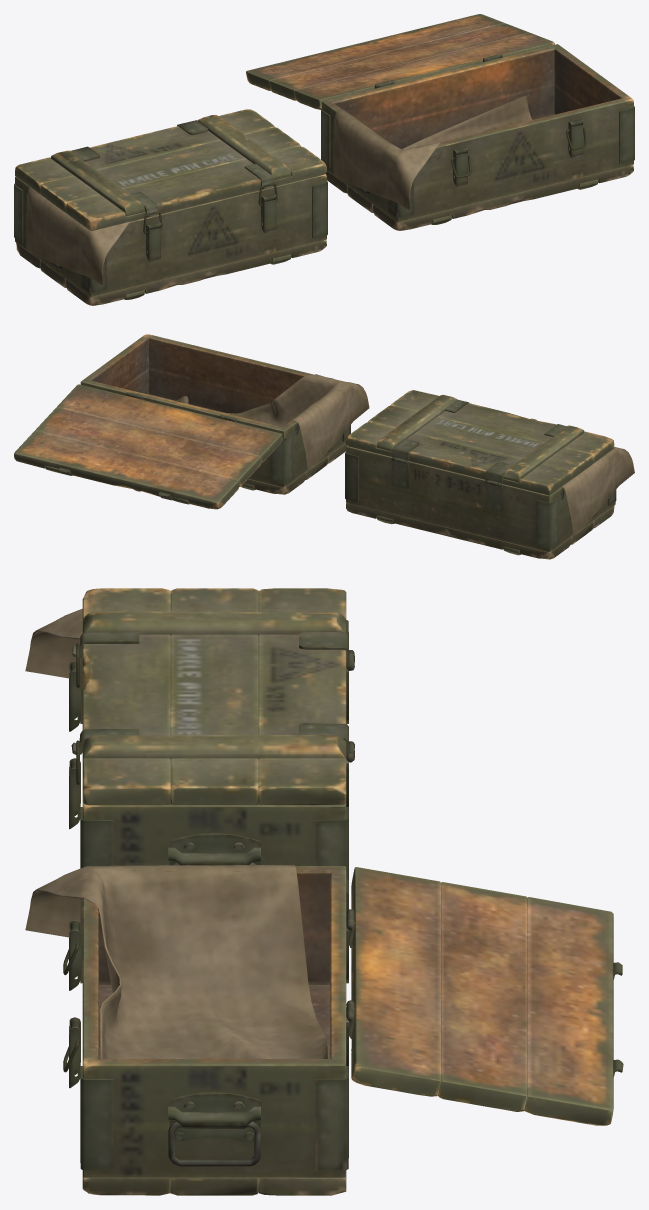
Rendered from old_military_crate.9932290a48.glb.
The picture shows the model from 3 angles, top to bottom: view 1: azimuth 30°, elevation 25°; view 2: azimuth 150°, elevation 25°; view 3: azimuth 270°, elevation 25°; orthographic projection. The views are drawn at different scales.
Visible parts, largest first — view 1: old_military_crate_b, old_military_crate_lid_a, old_military_crate_a, old_military_crate_lid_b, old_military_crate_cloth_b, old_military_crate_cloth_a, old_military_crate_latch_a, old_military_crate_latch_b; view 2: old_military_crate_lid_b, old_military_crate_lid_a, old_military_crate_a, old_military_crate_b, old_military_crate_cloth_b, old_military_crate_cloth_a; view 3: old_military_crate_lid_a, old_military_crate_lid_b, old_military_crate_b, old_military_crate_cloth_b, old_military_crate_a, old_military_crate_cloth_a, old_military_crate_latch_b, old_military_crate_latch_a.
Part boxes in pixels (box(x1,y1,x2,y2)): old_military_crate_b: box(321, 44, 634, 230); old_military_crate_lid_a: box(15, 109, 326, 230); old_military_crate_a: box(14, 174, 327, 305); old_military_crate_lid_b: box(246, 14, 554, 109); old_military_crate_cloth_b: box(333, 95, 532, 209); old_military_crate_cloth_a: box(26, 187, 129, 284); old_military_crate_latch_a: box(146, 194, 276, 261); old_military_crate_latch_b: box(453, 119, 583, 186); old_military_crate_lid_b: box(14, 384, 282, 509); old_military_crate_lid_a: box(346, 390, 614, 495); old_military_crate_a: box(345, 446, 616, 559); old_military_crate_b: box(80, 334, 350, 494); old_military_crate_cloth_b: box(174, 374, 369, 470); old_military_crate_cloth_a: box(562, 447, 634, 535); old_military_crate_lid_a: box(71, 588, 354, 805); old_military_crate_lid_b: box(346, 867, 623, 1125); old_military_crate_b: box(80, 866, 354, 1195); old_military_crate_cloth_b: box(25, 865, 328, 1058); old_military_crate_a: box(80, 620, 354, 890); old_military_crate_cloth_a: box(25, 608, 82, 678); old_military_crate_latch_b: box(69, 920, 80, 1088); old_military_crate_latch_a: box(69, 661, 80, 829).
Bounding box in the file's own units: 1.82 × 0.3009 × 0.9757.
1 material, 1 textured.
